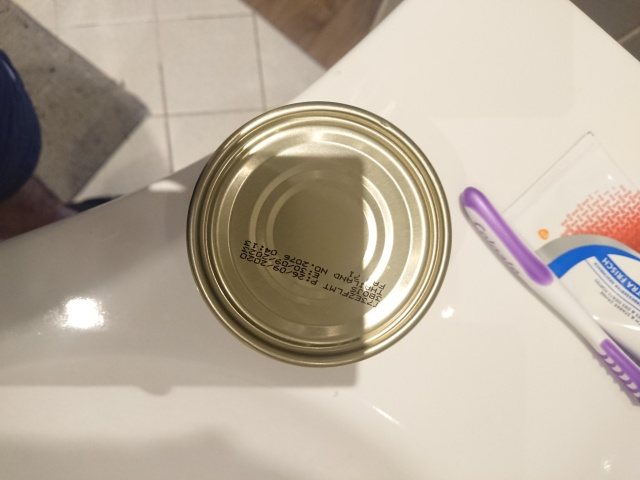Giana Tuna Salad Mexico 185g: (182, 96, 456, 374)
